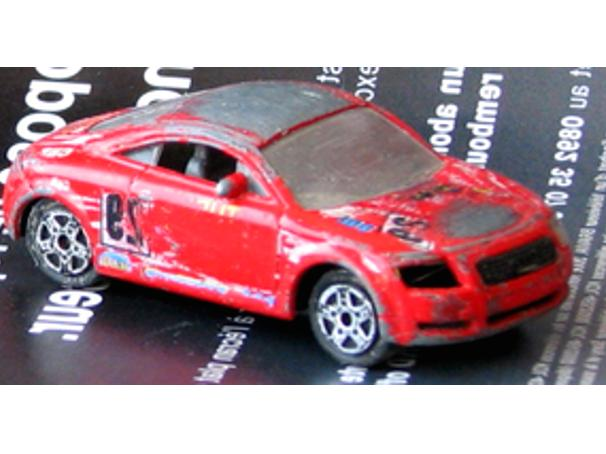toy-car: (0, 76, 575, 367)
